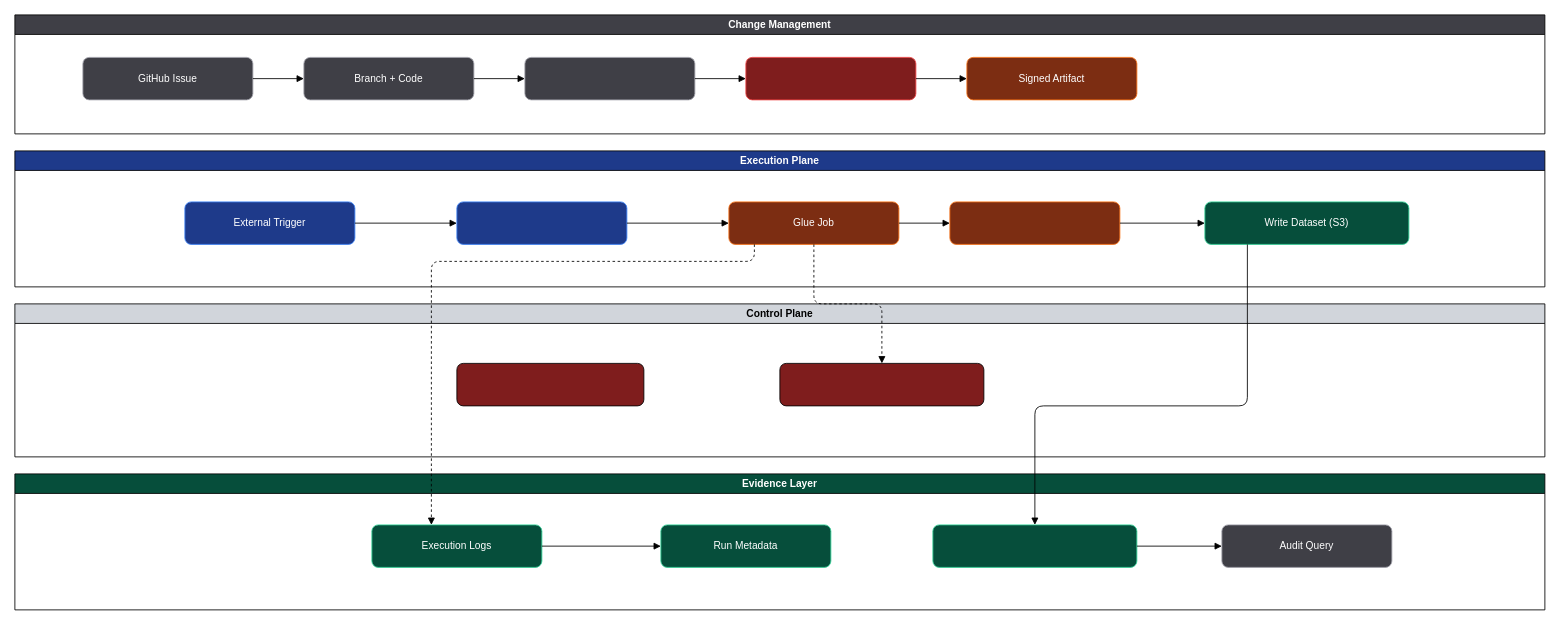
The diagram is 1560 pixels wide and 625 high, and some of its shapes have lost their labels. The centre of each missing label's shape, as x and y in pixels:
Airflow DAG: the point at 541,222
Artifact Verification: the point at 550,384
CI Checks: the point at 830,78
Lineage Metadata: the point at 1034,545
Pull Request: the point at 609,78
Runtime Data Quality: the point at 881,384
Transform: the point at 1034,222
